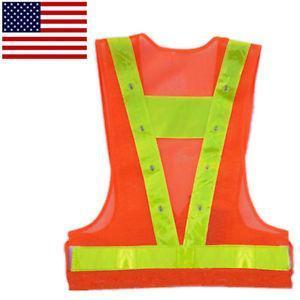vest: (61, 33, 295, 290)
